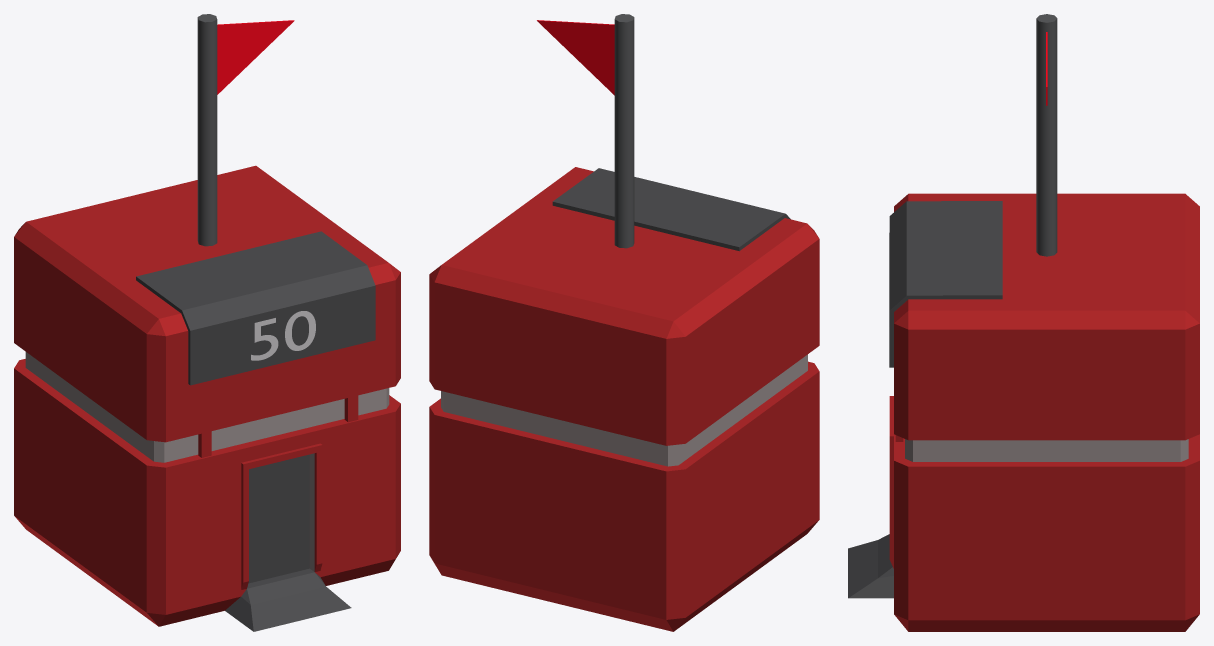
File: Castle.fbx
3 views of the same model, side by side, from view 1: azimuth 30°, elevation 25°; view 2: azimuth 150°, elevation 25°; view 3: azimuth 270°, elevation 25° (orthographic). The views are drawn at different scales.
Parts seen in each view (by area): view 1: Main_Castle, Castle_Flag, Text_50; view 2: Main_Castle, Castle_Flag; view 3: Main_Castle, Castle_Flag.
Part boxes in pixels (<box>): Main_Castle: <box>14,165,400,631</box>; Castle_Flag: <box>197,14,294,246</box>; Text_50: <box>251,311,315,360</box>; Main_Castle: <box>429,167,819,631</box>; Castle_Flag: <box>537,14,634,248</box>; Main_Castle: <box>848,193,1199,631</box>; Castle_Flag: <box>1036,14,1057,256</box>.
Size of the model in its own units: 200 by 400 by 230.
